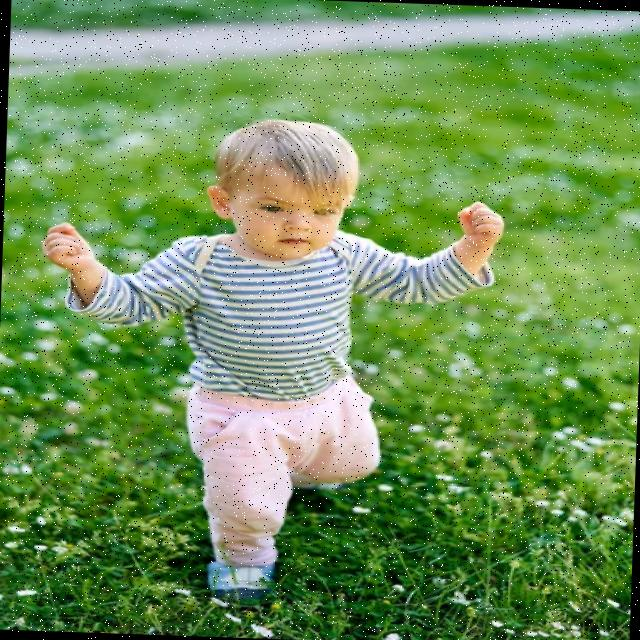Person: (30, 111, 504, 613)
